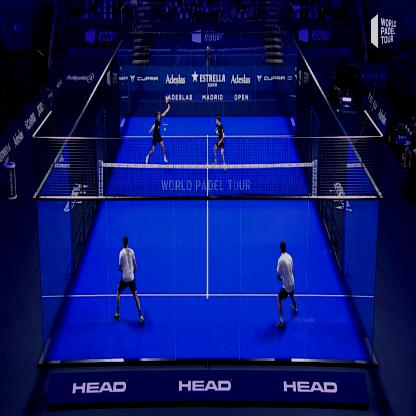ball: (163, 124, 169, 137)
